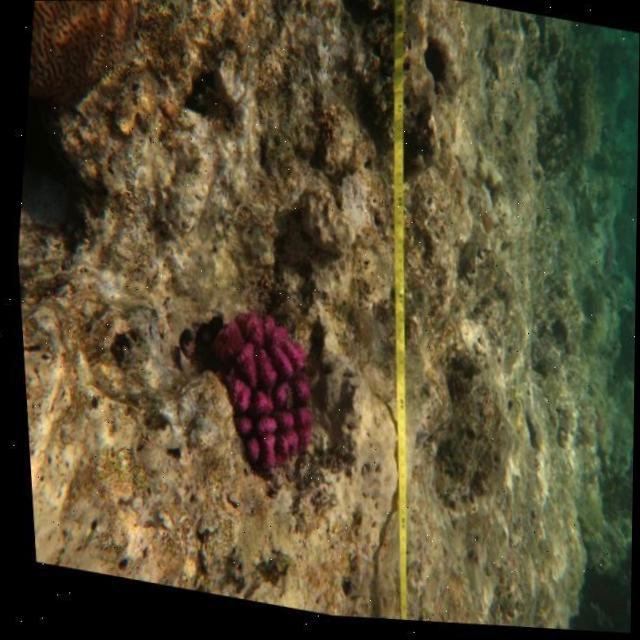Healthy Coral: (163, 290, 345, 497), (15, 0, 159, 151)
